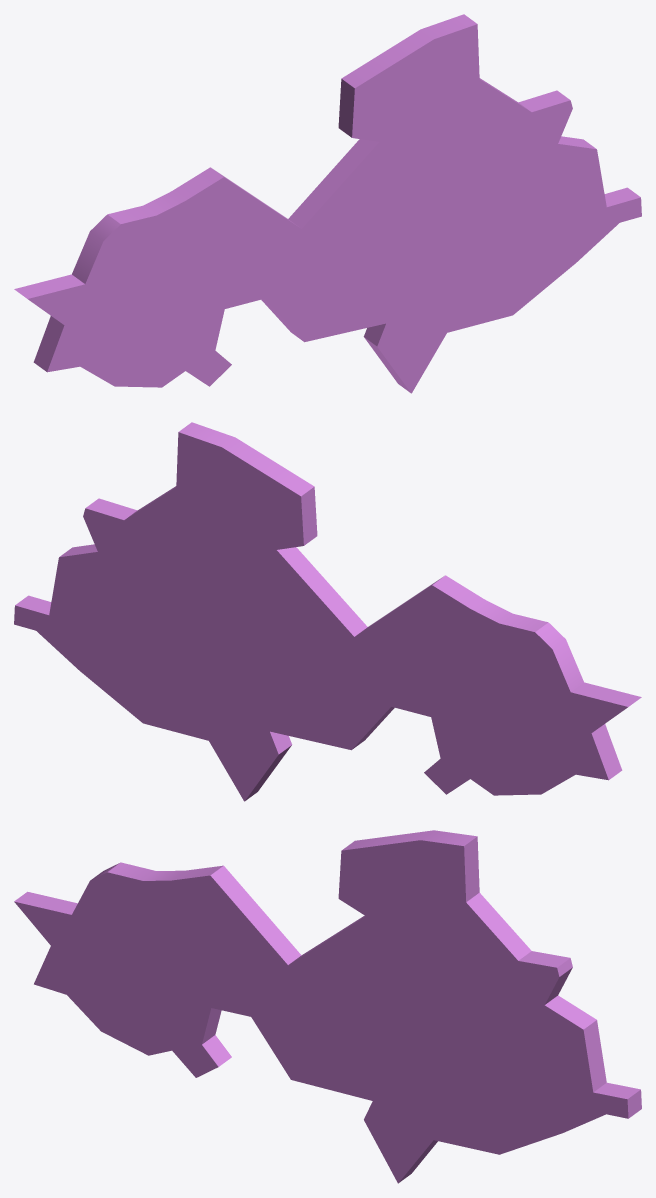
The model's file is canatlan.fbx.
3 renders of one model, top to bottom at view 1: azimuth 30°, elevation 25°; view 2: azimuth 150°, elevation 25°; view 3: azimuth 330°, elevation 25°, orthographic.
Parts seen in each view (by area): view 1: canatlan; view 2: canatlan; view 3: canatlan.
Boxes of the visible parts, bbox=[...] form: canatlan: bbox=[14, 14, 641, 393]; canatlan: bbox=[14, 422, 641, 801]; canatlan: bbox=[14, 830, 641, 1183].
Size of the model in its own units: 210 by 116 by 8.
